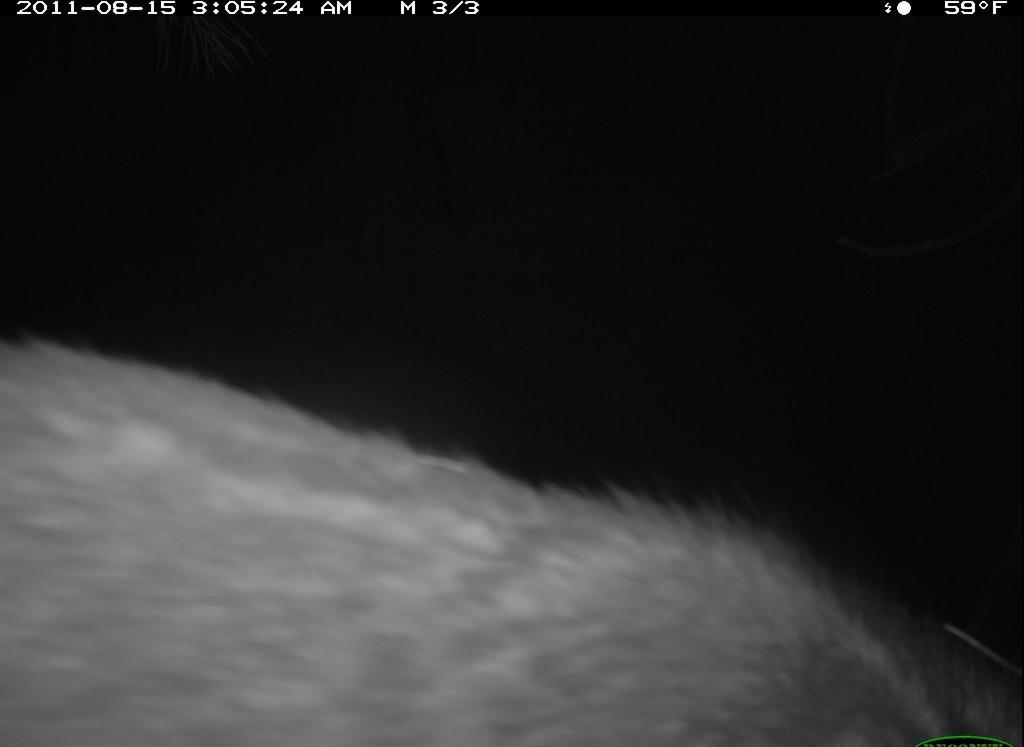raccoon: (4, 329, 1017, 747)
